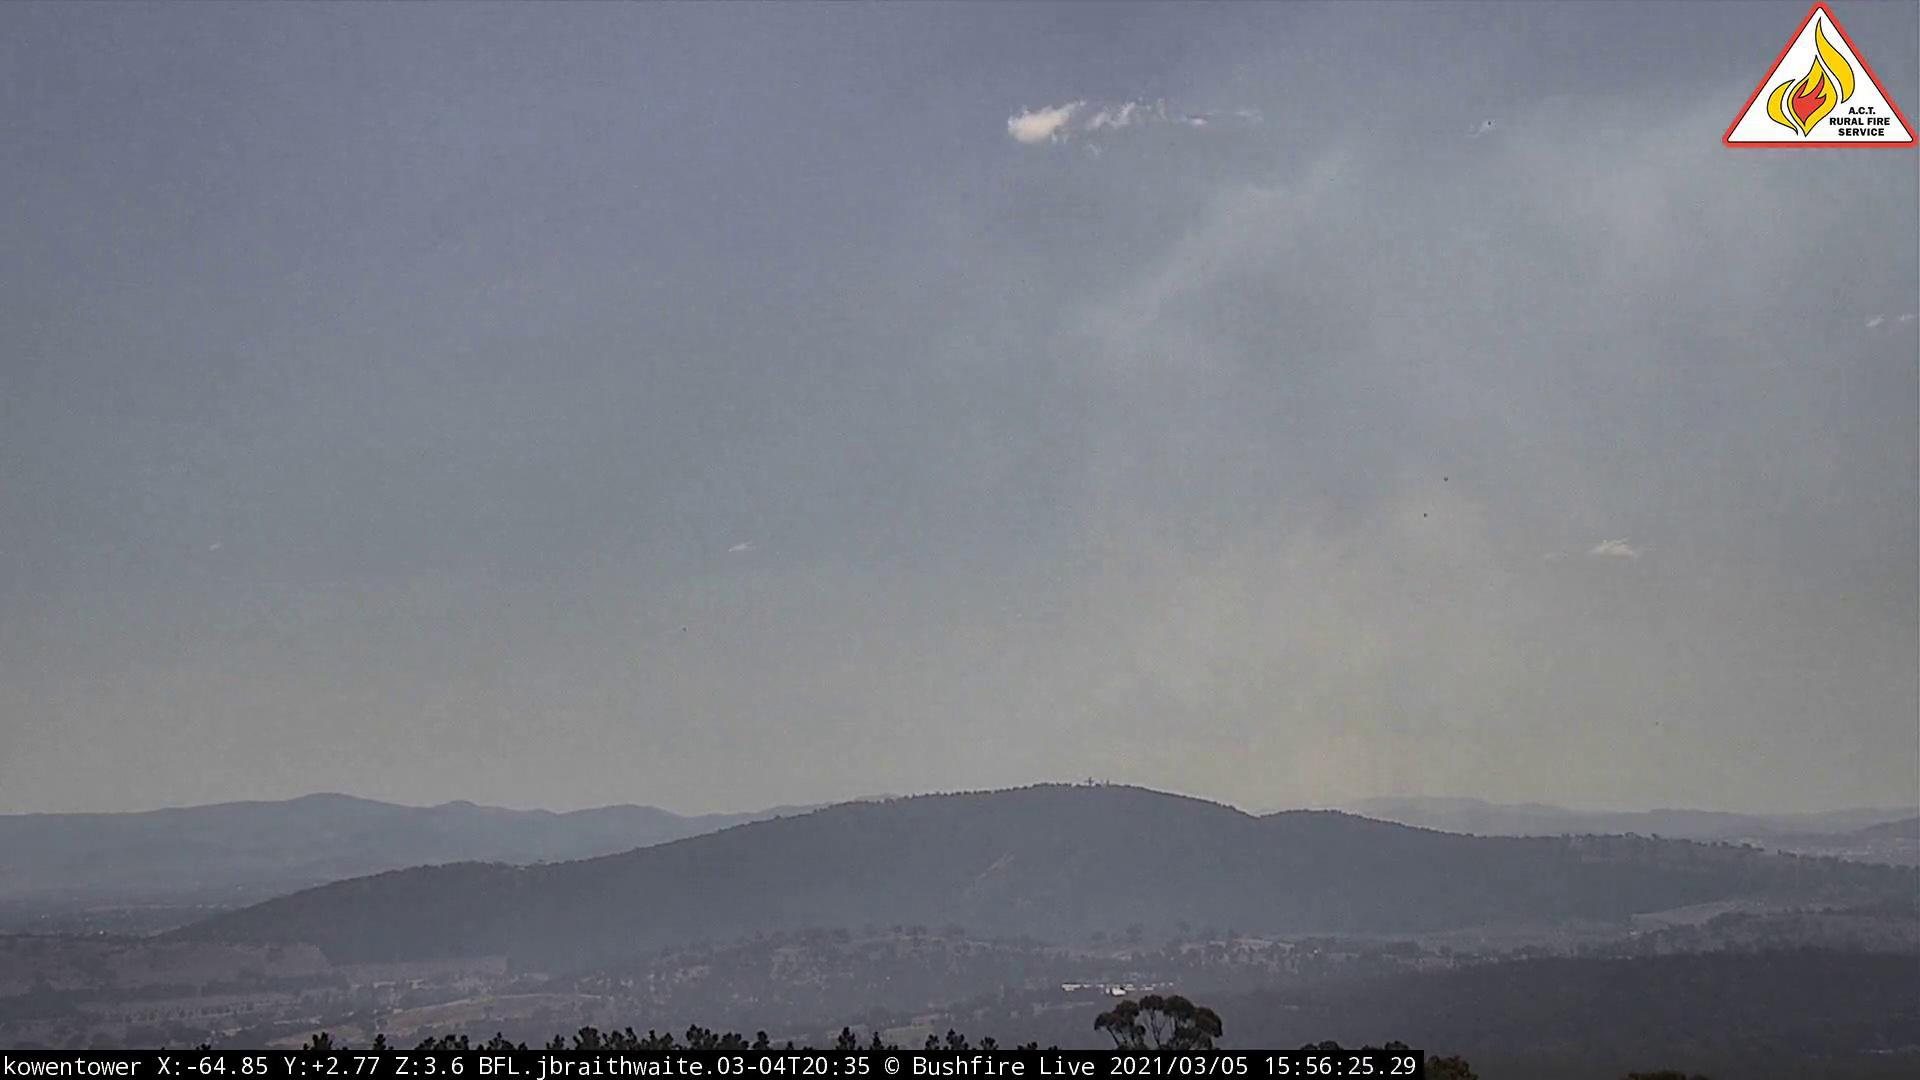instance_salient_object: (1042, 162, 1876, 828)
